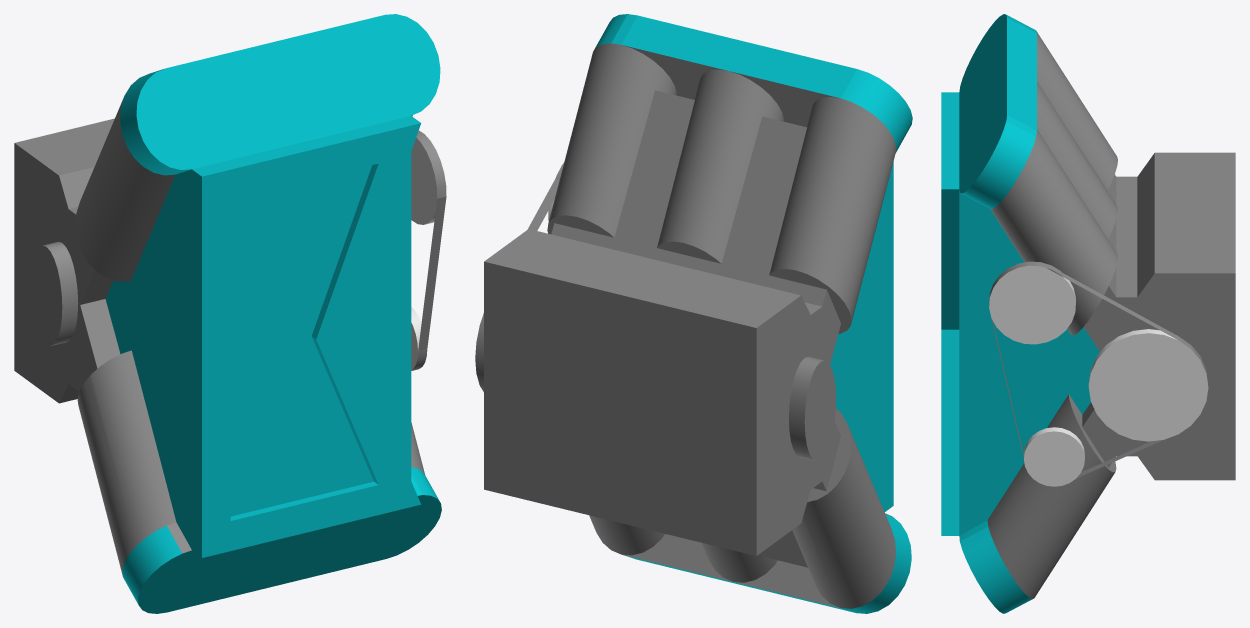
File: car_engine.dae
3 views of the same model, side by side, from view 1: azimuth 30°, elevation 25°; view 2: azimuth 150°, elevation 25°; view 3: azimuth 270°, elevation 25° (orthographic). The views are drawn at different scales.
Parts seen in each view (by area): view 1: instance_0_008, instance_0_012, instance_0_018, instance_0, instance_0_010, instance_0_013, instance_0_005, instance_0_011, instance_0_004; view 2: instance_0_018, instance_0_010, instance_0_008, instance_0, instance_0_013; view 3: instance_0_008, instance_0_018, instance_0_010, instance_0_002, instance_0, instance_0_005, instance_0_003, instance_0_019.
Boxes of the visible parts, x1,y1,x2,y2 form: instance_0_008: (105,14,441,613); instance_0_012: (230,163,378,520); instance_0_018: (14,118,120,403); instance_0: (77,350,424,576); instance_0_010: (75,96,412,281); instance_0_013: (30,241,78,346); instance_0_005: (411,137,437,224); instance_0_011: (418,207,444,351); instance_0_004: (416,130,446,208); instance_0_018: (484,90,840,567); instance_0_010: (547,43,896,333); instance_0_008: (594,14,912,613); instance_0: (589,408,895,608); instance_0_013: (789,356,836,460); instance_0_008: (941,14,1099,613); instance_0_018: (1069,131,1235,480); instance_0_010: (990,31,1117,335); instance_0_002: (1088,329,1208,441); instance_0: (987,394,1116,598); instance_0_005: (989,265,1075,344); instance_0_003: (1024,427,1084,486); instance_0_019: (1063,273,1178,340).
Bounding box in the file's own units: 198 × 330 × 178.
